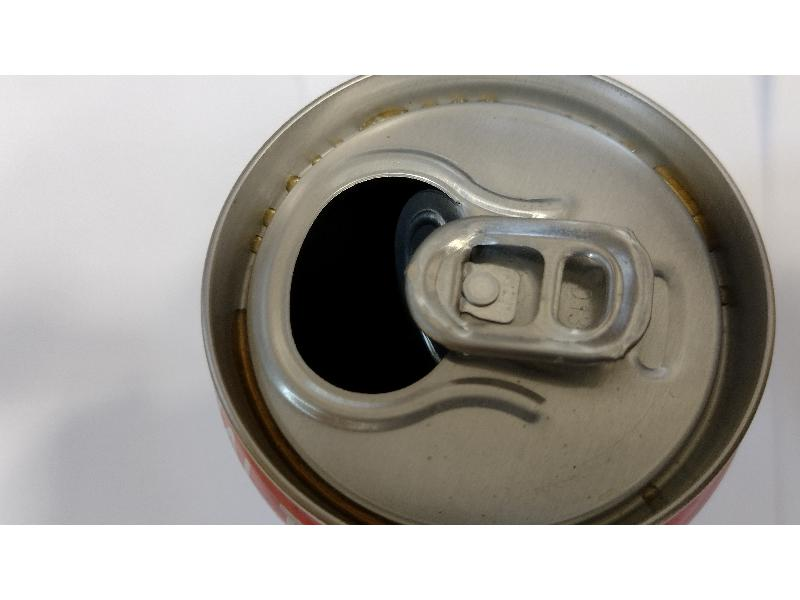can: (195, 73, 780, 526)
